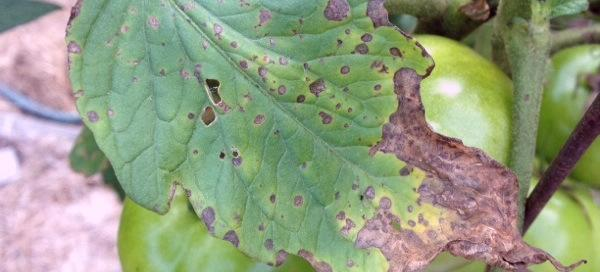Tomato Septoria leaf spot: (55, 4, 568, 272)
